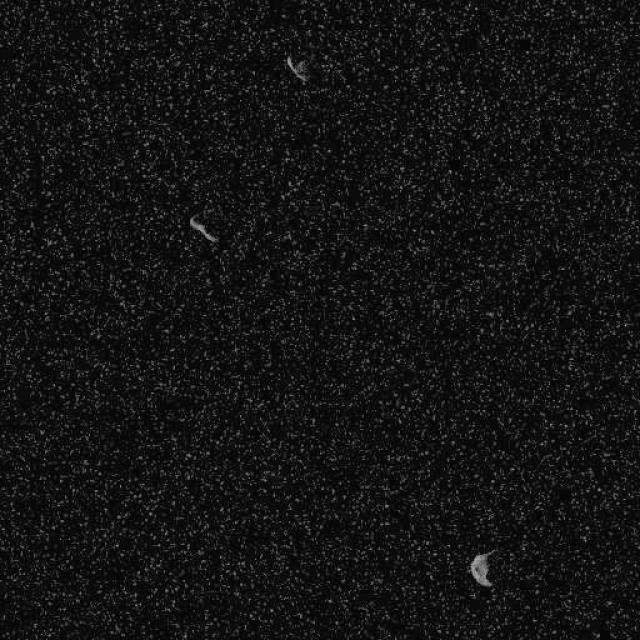D2: (467, 550, 495, 589), (188, 211, 218, 244), (285, 52, 310, 82)
